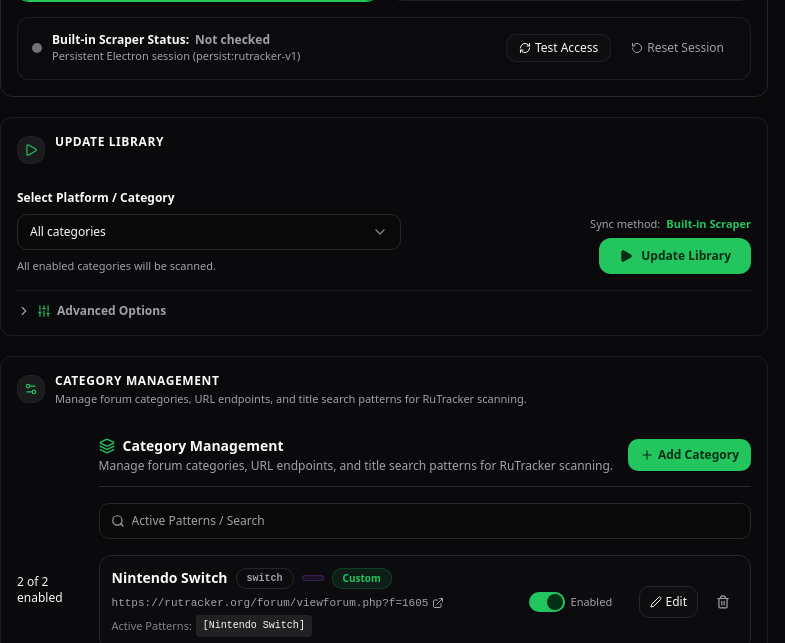
Test case: ScraperPanel Advanced Options UI Integration (V3-12) › locks all three refresh switches when Full Scan is enabled and restores previous state when disabled
(page scrolled)
Expand Advanced Options
Click the button "Advanced Options". click: click(92, 311)
box: left=17, top=303, right=166, bottom=319
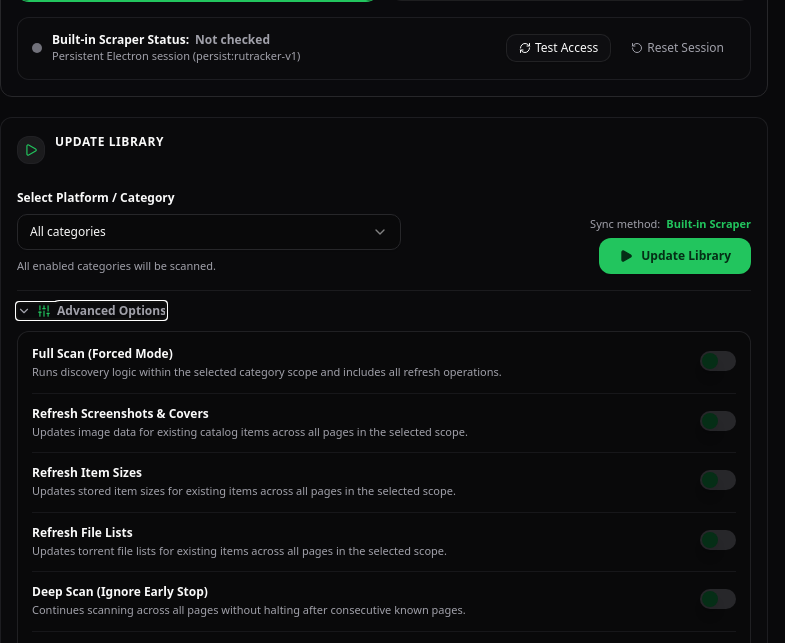
Check: the switch in the row of "Full Scan (Forced Mode)" is not checked, box left=700, top=351, right=736, bottom=371
Check: the switch in the row of "Refresh Screenshots & Covers" is not checked
Check: the switch in the row of "Refresh Item Sizes" is not checked, box left=700, top=470, right=736, bottom=490
User checks screenshots and files (leaving size unchecked)
Click the switch in the row of "Refresh Screenshots & Covers". click: click(718, 421)
box: left=700, top=411, right=736, bottom=431
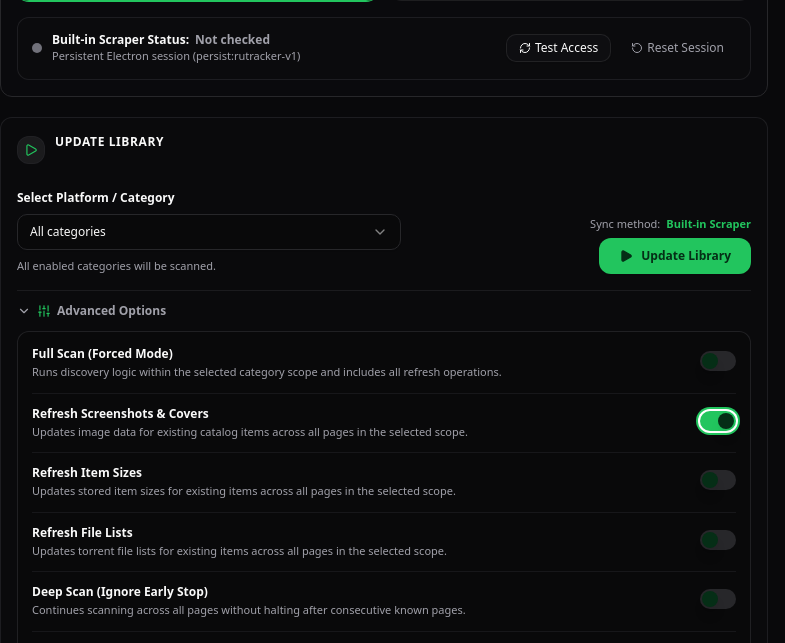
Click the switch in the row of "Refresh File Lists". click: click(718, 540)
box: left=700, top=530, right=736, bottom=550
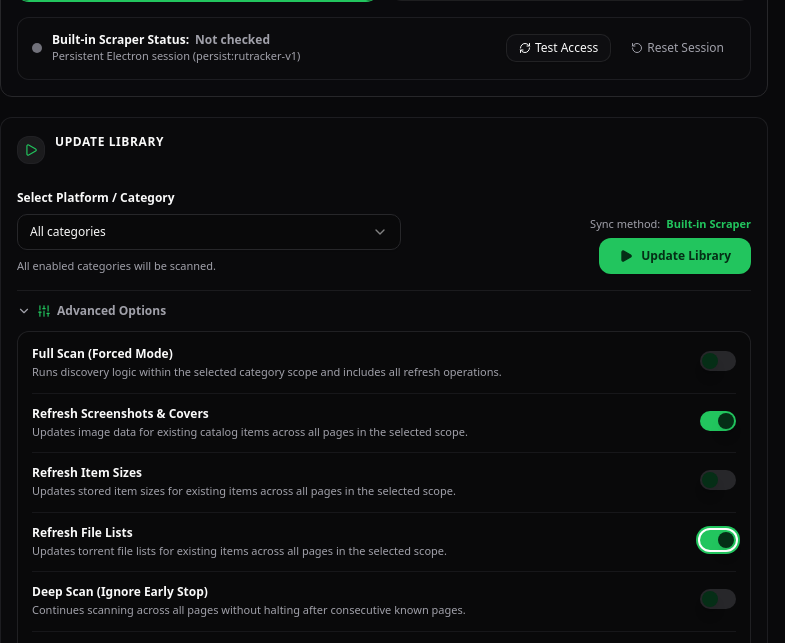
Check: the switch in the row of "Refresh Screenshots & Covers" is checked, box left=700, top=411, right=736, bottom=431
Check: the switch in the row of "Refresh File Lists" is checked, box left=700, top=530, right=736, bottom=550
Check: the switch in the row of "Refresh Item Sizes" is not checked, box left=700, top=470, right=736, bottom=490
User checks Full Scan
Click the switch in the row of "Full Scan (Forced Mode)". click: click(718, 361)
box: left=700, top=351, right=736, bottom=371
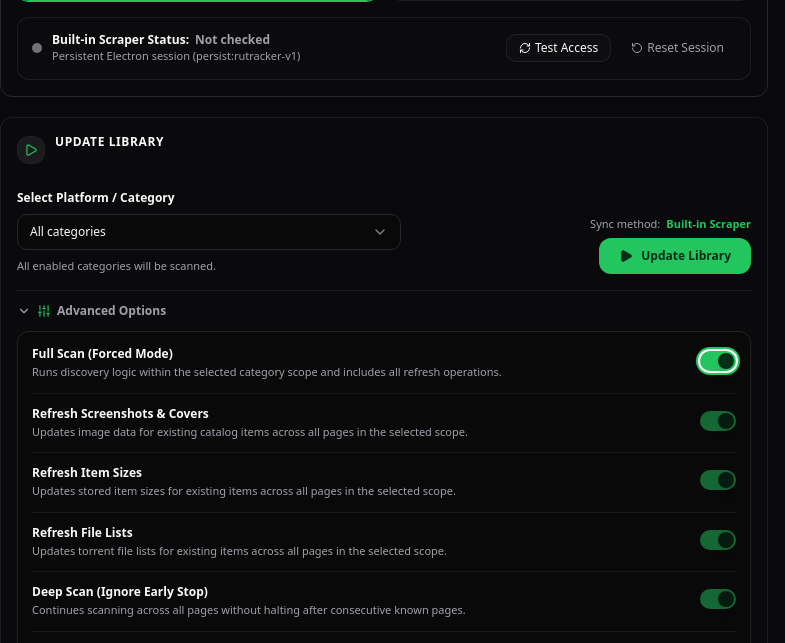
Check: the switch in the row of "Full Scan (Forced Mode)" is checked
Check: the switch in the row of "Refresh Screenshots & Covers" is checked, box left=700, top=411, right=736, bottom=431
Check: the switch in the row of "Refresh Screenshots & Covers" is disabled, box left=700, top=411, right=736, bottom=431
User unchecks Full Scan
Click the switch in the row of "Full Scan (Forced Mode)". click: click(718, 361)
box: left=700, top=351, right=736, bottom=371
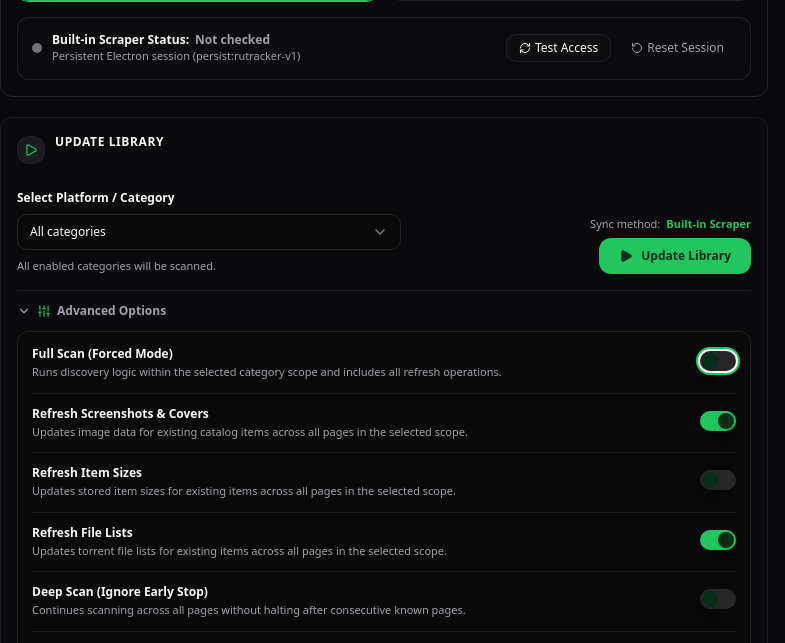
Check: the switch in the row of "Full Scan (Forced Mode)" is not checked, box left=700, top=351, right=736, bottom=371
Check: the switch in the row of "Refresh Screenshots & Covers" is checked, box left=700, top=411, right=736, bottom=431
Check: the switch in the row of "Refresh Screenshots & Covers" is enabled, box left=700, top=411, right=736, bottom=431
